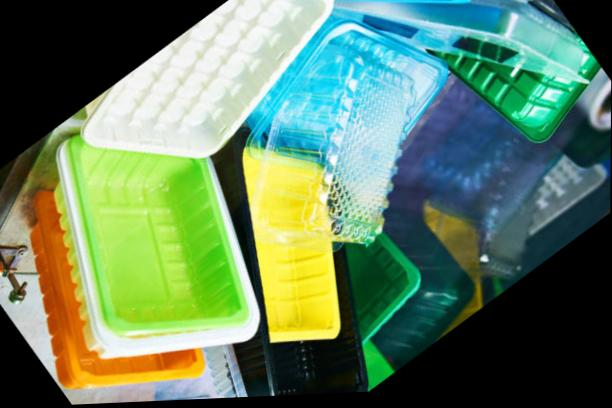plastic: (80, 0, 569, 404), (0, 70, 310, 408), (72, 0, 363, 208), (415, 0, 612, 175), (269, 0, 488, 83)
